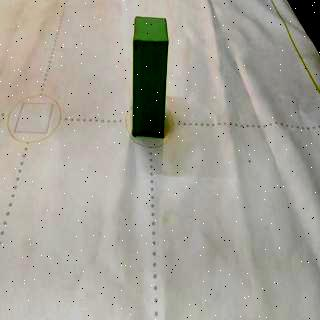greenbox: (130, 15, 168, 139)
